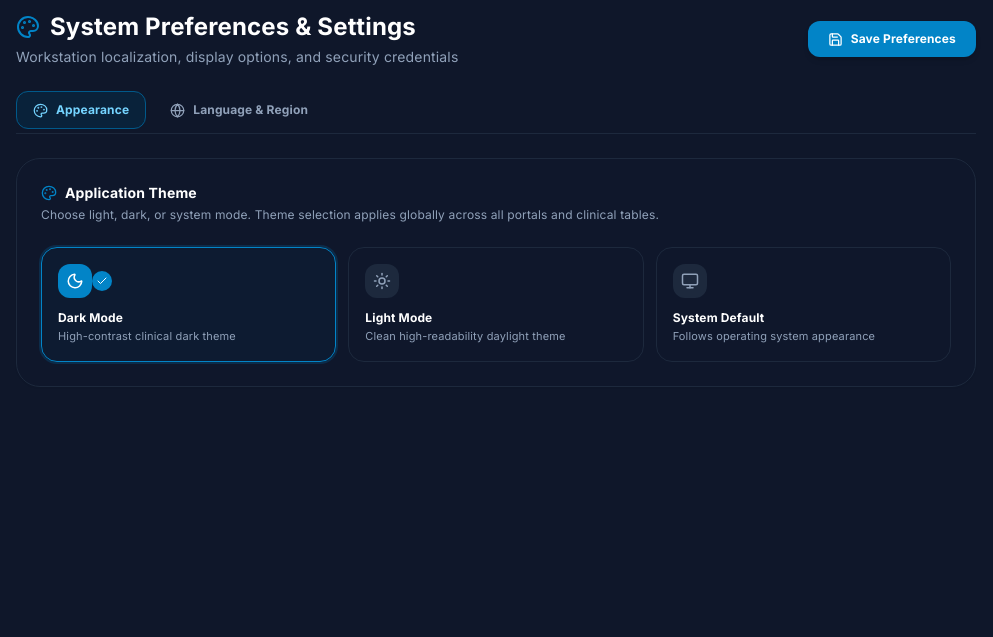
Settings Page Simplification & Verification › 2. Language & Region Settings › switches to Language & Region tab and displays supported languages with English default
This screenshot has width=993, height=637.
Click the button "Language & Region". click: (239, 110)
box: [154,92,324,128]
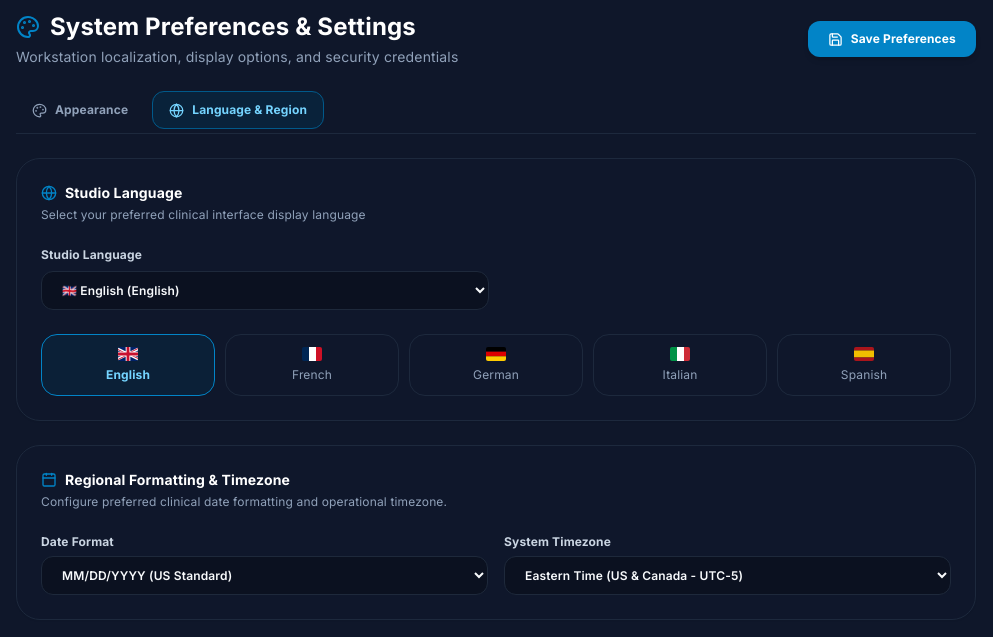
Expected: the element with test id "settings-language-section" is shown
Expected: the dropdown labelled "Studio Language" is shown, [41,271,489,310]
Expected: the button with test id "lang-btn-en" is shown, [41,334,215,396]
